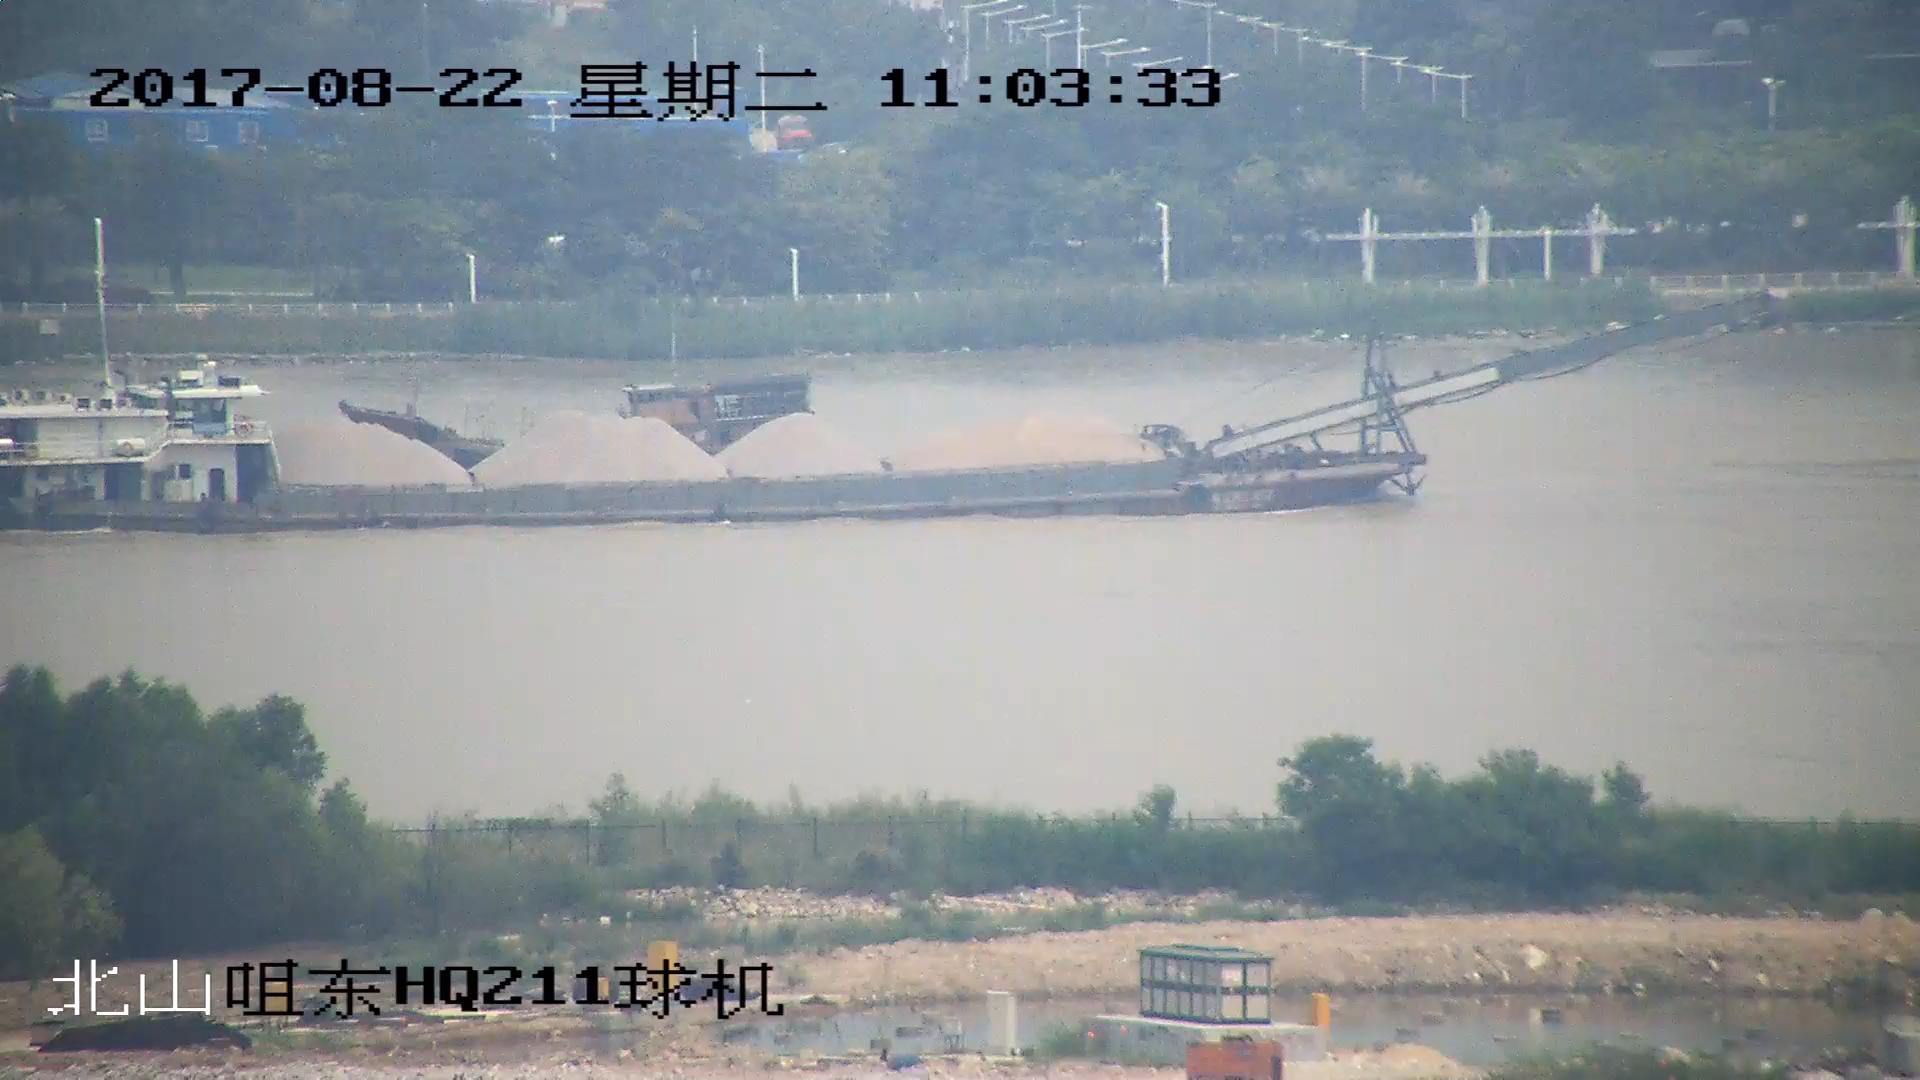fishing boat: (346, 378, 812, 452)
ore carrier: (1, 295, 1765, 531)
